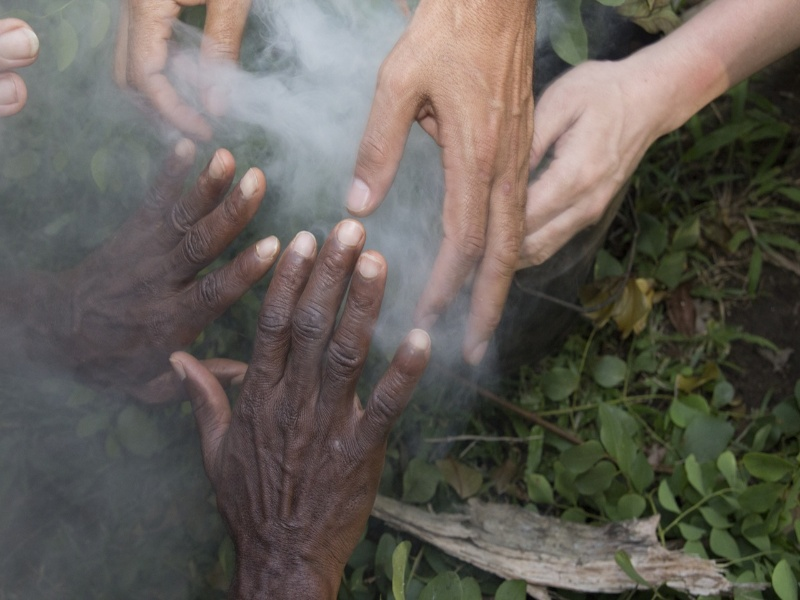smoke: (185, 1, 483, 388)
